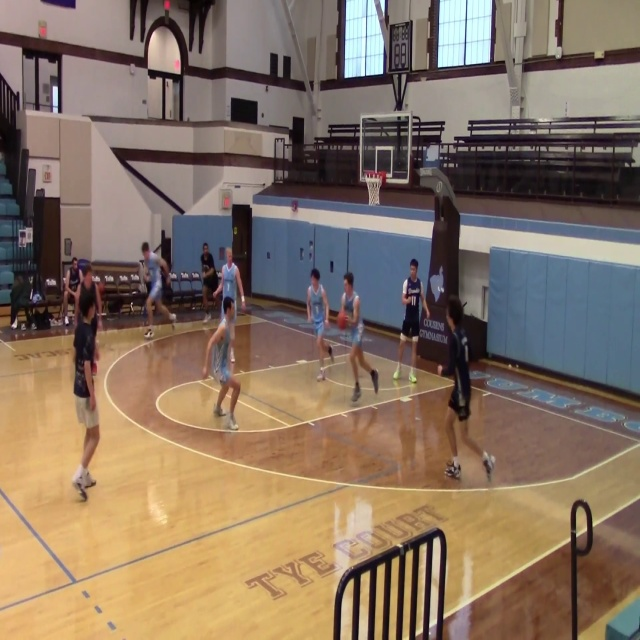Basketball: (337, 312, 348, 329), (241, 305, 252, 315)
